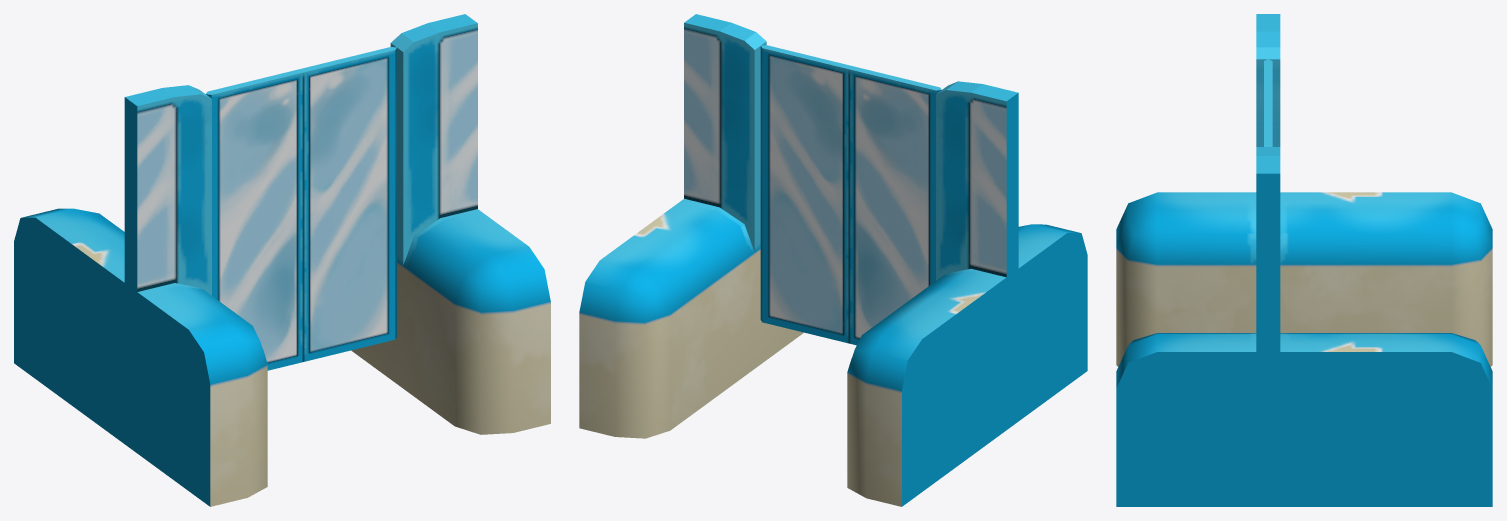
File: portique 1.fbx
3 views of the same model, side by side, from view 1: azimuth 30°, elevation 25°; view 2: azimuth 150°, elevation 25°; view 3: azimuth 270°, elevation 25° (orthographic). The views are drawn at different scales.
Parts seen in each view (by area): view 1: portique, porte_02, porte_01; view 2: portique, porte_02, porte_01; view 3: portique.
Boxes of the visible parts, <box> form: portique: <box>14,14,550,506</box>; porte_02: <box>299,47,396,361</box>; porte_01: <box>206,69,303,370</box>; portique: <box>579,14,1087,506</box>; porte_02: <box>760,45,852,343</box>; porte_01: <box>849,66,941,345</box>; portique: <box>1116,14,1492,506</box>.
Bounding box in the file's own units: 1 × 0.9768 × 1.
